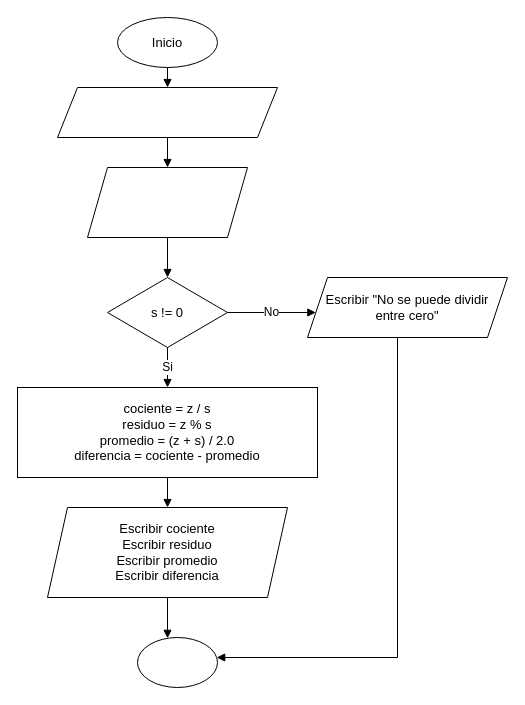
Image size: 525x705. Some labels were removed from this diagram. Here are the shapes that lost their labels. From the top down, the centre of each, then its label:
At point (167, 112): "Escribir lista de variables".
At point (167, 202): "Leer z Leer s".
At point (177, 662): "Fin".
